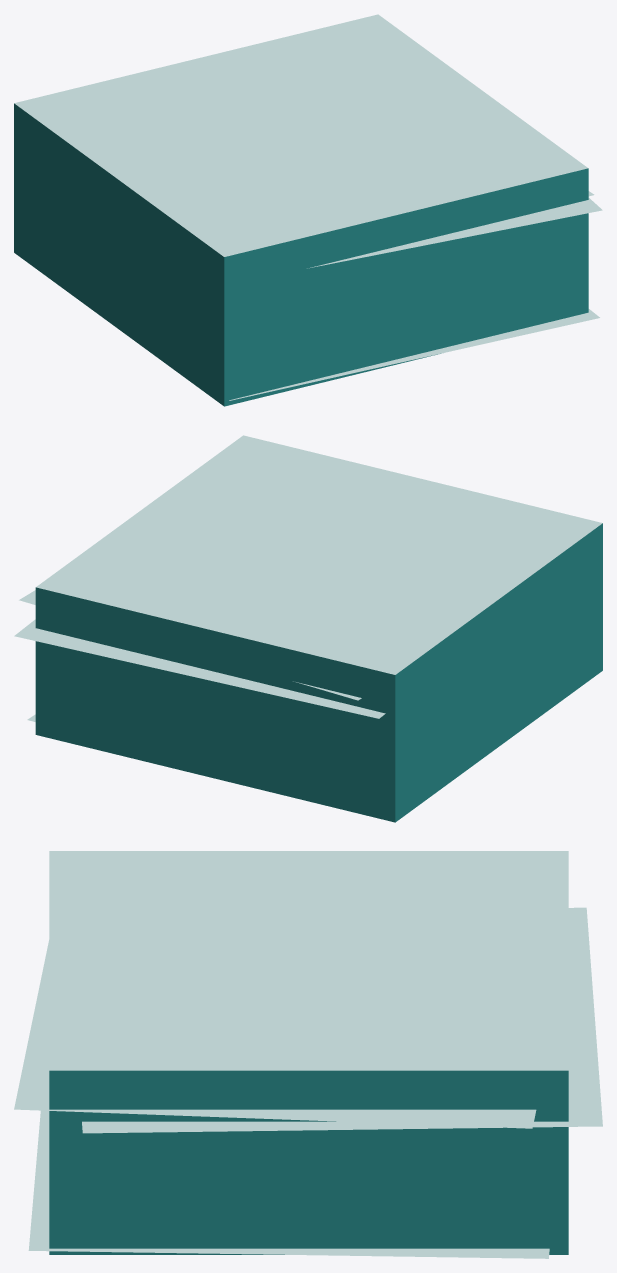
The model's file is SM_Post-it-stack.FBX.
The picture shows the model from 3 angles, top to bottom: view 1: azimuth 30°, elevation 25°; view 2: azimuth 150°, elevation 25°; view 3: azimuth 270°, elevation 25°; orthographic projection. The views are drawn at different scales.
Visible parts, largest first — view 1: SM_Post-it-stack; view 2: SM_Post-it-stack; view 3: SM_Post-it-stack.
Part boxes in pixels (left/top/right/bottom): SM_Post-it-stack: left=14, top=14, right=602, bottom=406; SM_Post-it-stack: left=14, top=435, right=602, bottom=822; SM_Post-it-stack: left=14, top=851, right=602, bottom=1258.
Size of what is drawn, in the model's own units: 109 by 39.2 by 113.
